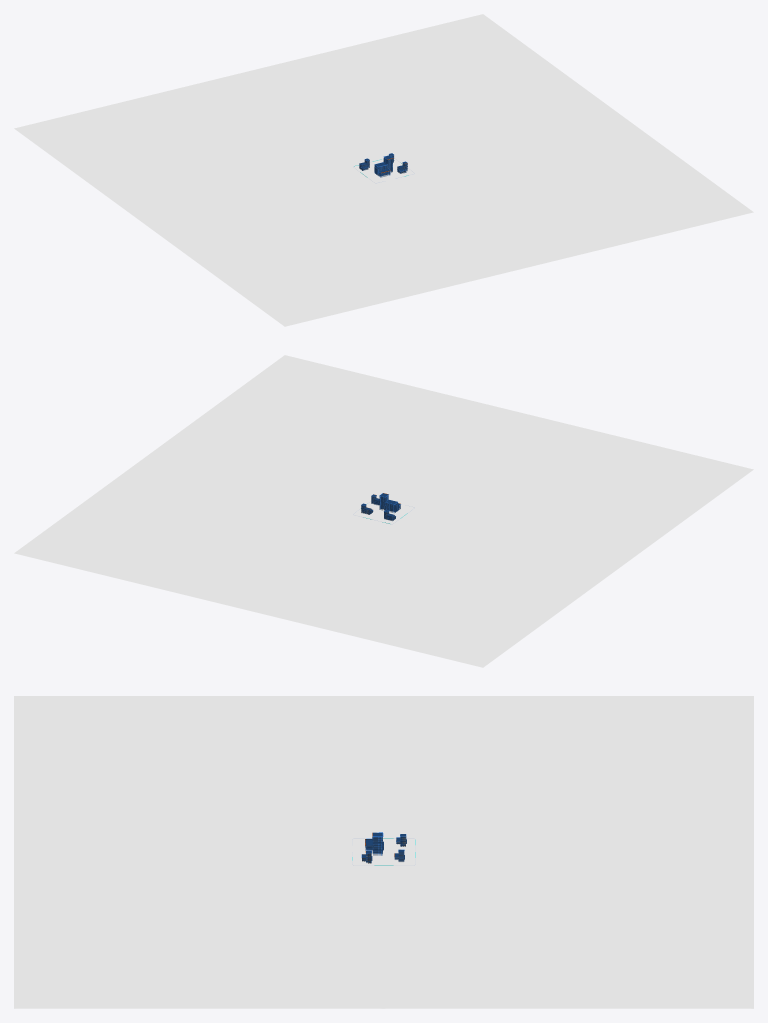
The model's file is city.glb.
3 renders of one model, top to bottom at view 1: azimuth 30°, elevation 25°; view 2: azimuth 150°, elevation 25°; view 3: azimuth 270°, elevation 25°, orthographic. The views are drawn at different scales.
Visible parts, largest first — view 1: 平面.002; view 2: 平面.002; view 3: 平面.002.
Part boxes in pixels (x1,y1,x2,y2): 平面.002: (14, 14, 753, 326); 平面.002: (14, 355, 753, 667); 平面.002: (14, 696, 753, 1008).
Size of the model in its own units: 2068 by 63.8 by 2068.
12 materials, 4 textured.
